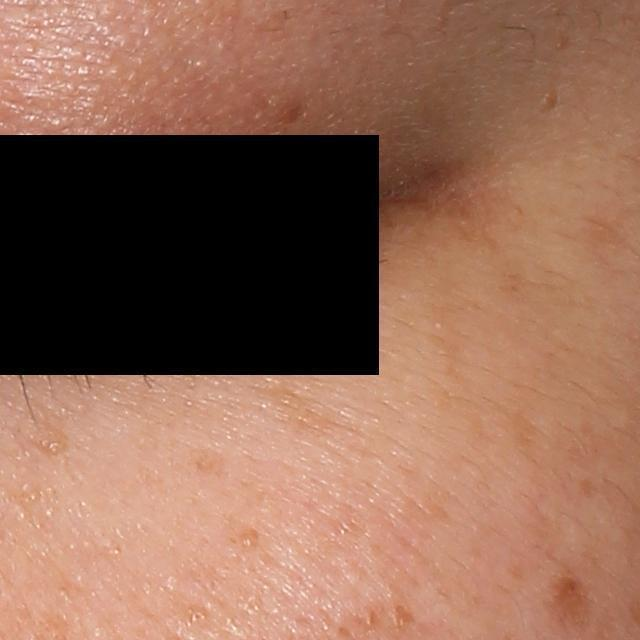melasma: (250, 372, 360, 441), (425, 303, 482, 385), (545, 571, 603, 637), (574, 213, 635, 263), (271, 93, 309, 133), (183, 448, 233, 478), (508, 406, 536, 458)
